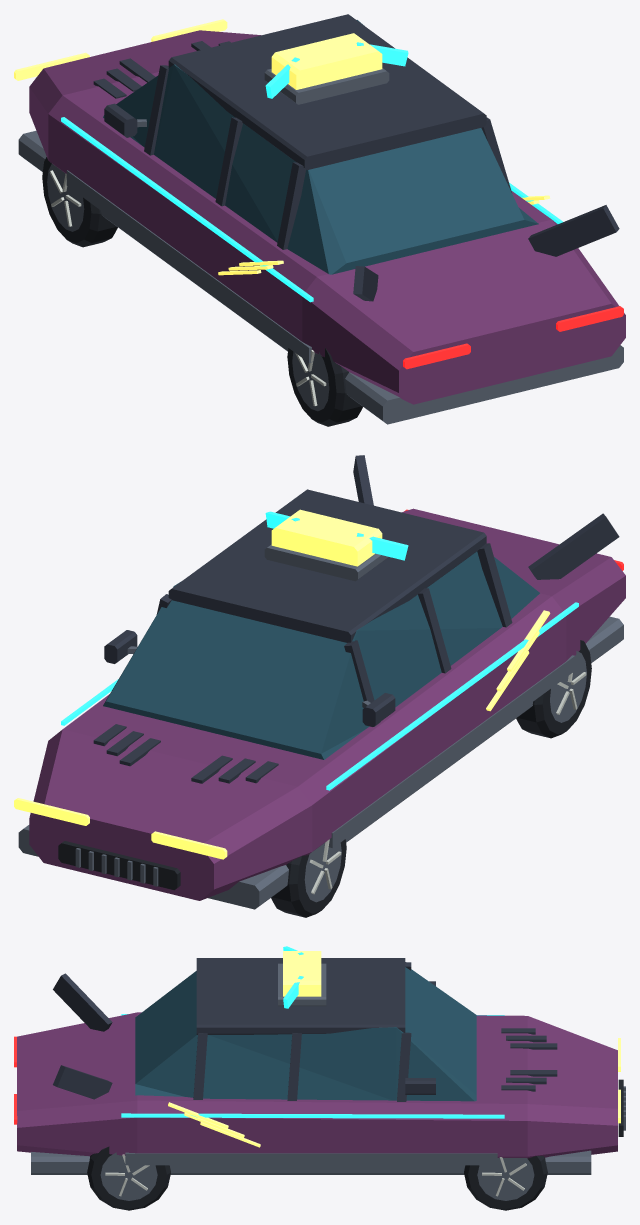
File: raven_taxi.glb
3 views of the same model, one above another, from view 1: azimuth 30°, elevation 25°; view 2: azimuth 150°, elevation 25°; view 3: azimuth 270°, elevation 25° (orthographic). The views are drawn at different scales.
Parts seen in each view (by area): view 1: Body_Paint_Plum, Body_Glass_Opaque, Body_Paint_Obsidian, Body_Metal_Chassis, Body_Lamp_Amber, Rubber (×2), Body_Neon_Cyan, Metal_Chassis (×2), Body_Lamp_Red; view 2: Body_Paint_Plum, Body_Glass_Opaque, Body_Paint_Obsidian, Body_Metal_Chassis, Body_Lamp_Amber, Rubber (×2), Body_Neon_Cyan, Metal_Chassis (×2), Body_Rubber; view 3: Body_Paint_Plum, Body_Glass_Opaque, Body_Paint_Obsidian, Body_Metal_Chassis, Metal_Chassis (×2), Rubber (×2), Body_Lamp_Amber, Body_Neon_Cyan.
Part boxes in pixels (left/top/right/bottom): Body_Paint_Plum: left=29, top=30, right=625, bottom=404; Body_Glass_Opaque: left=103, top=20, right=538, bottom=274; Body_Paint_Obsidian: left=93, top=14, right=619, bottom=301; Body_Metal_Chassis: left=18, top=68, right=623, bottom=424; Body_Lamp_Amber: left=14, top=19, right=550, bottom=275; Rubber (×2): left=42, top=157, right=362, bottom=426; Body_Neon_Cyan: left=61, top=42, right=562, bottom=302; Metal_Chassis (×2): left=47, top=163, right=329, bottom=411; Body_Lamp_Red: left=403, top=306, right=623, bottom=369; Body_Paint_Plum: left=29, top=508, right=625, bottom=900; Body_Glass_Opaque: left=103, top=551, right=539, bottom=759; Body_Paint_Obsidian: left=93, top=455, right=619, bottom=783; Body_Metal_Chassis: left=18, top=544, right=623, bottom=909; Body_Lamp_Amber: left=14, top=509, right=550, bottom=859; Rubber (×2): left=271, top=640, right=591, bottom=917; Body_Neon_Cyan: left=61, top=511, right=578, bottom=790; Metal_Chassis (×2): left=304, top=651, right=586, bottom=902; Body_Rubber: left=58, top=841, right=180, bottom=890; Body_Paint_Plum: left=17, top=1012, right=617, bottom=1158; Body_Glass_Opaque: left=135, top=967, right=476, bottom=1101; Body_Paint_Obsidian: left=53, top=958, right=557, bottom=1101; Body_Metal_Chassis: left=31, top=963, right=625, bottom=1174; Metal_Chassis (×2): left=100, top=1152, right=534, bottom=1200; Rubber (×2): left=87, top=1146, right=547, bottom=1210; Body_Lamp_Amber: left=168, top=951, right=620, bottom=1147; Body_Neon_Cyan: left=121, top=946, right=504, bottom=1118.
Bounding box in the file's own units: 1.9 × 1.73 × 4.81.
